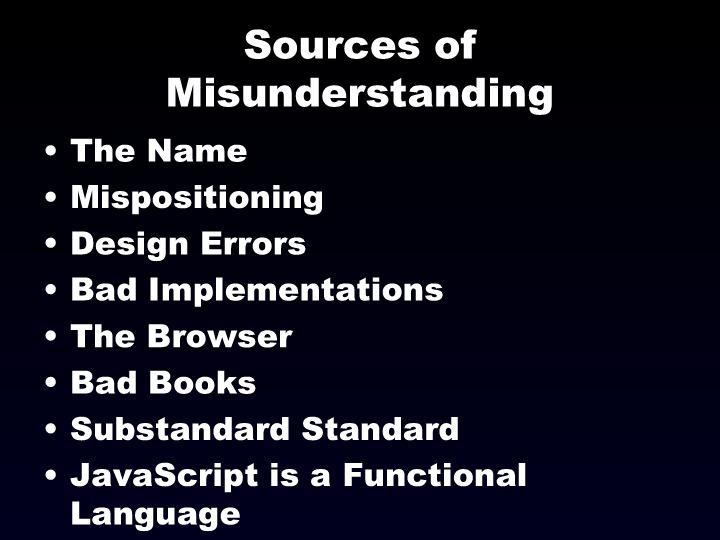paragraph: (29, 126, 566, 536)
title: (141, 21, 565, 126)
